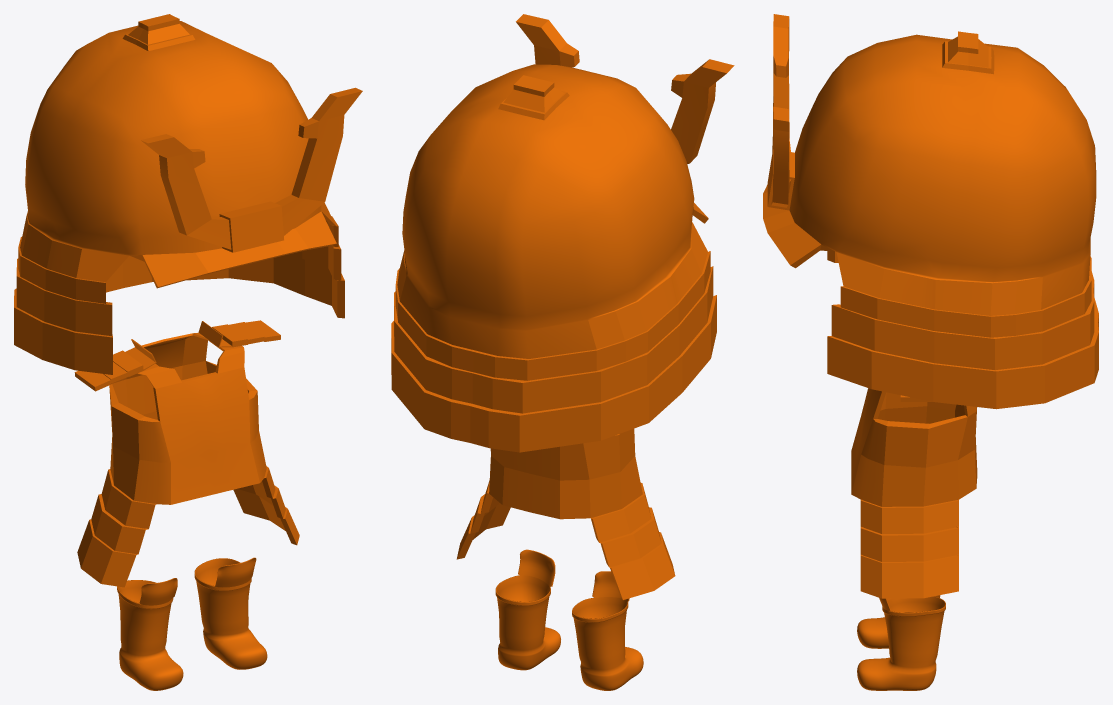
The model's file is GuardArmour.fbx.
3 renders of one model, left to right at view 1: azimuth 30°, elevation 25°; view 2: azimuth 150°, elevation 25°; view 3: azimuth 270°, elevation 25°, orthographic. The views are drawn at different scales.
Parts seen in each view (by area): view 1: Guard_Armour; view 2: Guard_Armour; view 3: Guard_Armour.
Boxes of the visible parts, <box> form: Guard_Armour: <box>14,14,362,690</box>; Guard_Armour: <box>391,14,734,690</box>; Guard_Armour: <box>763,14,1098,690</box>.
Bounding box in the file's own units: 72.42 × 161 × 78.37.
